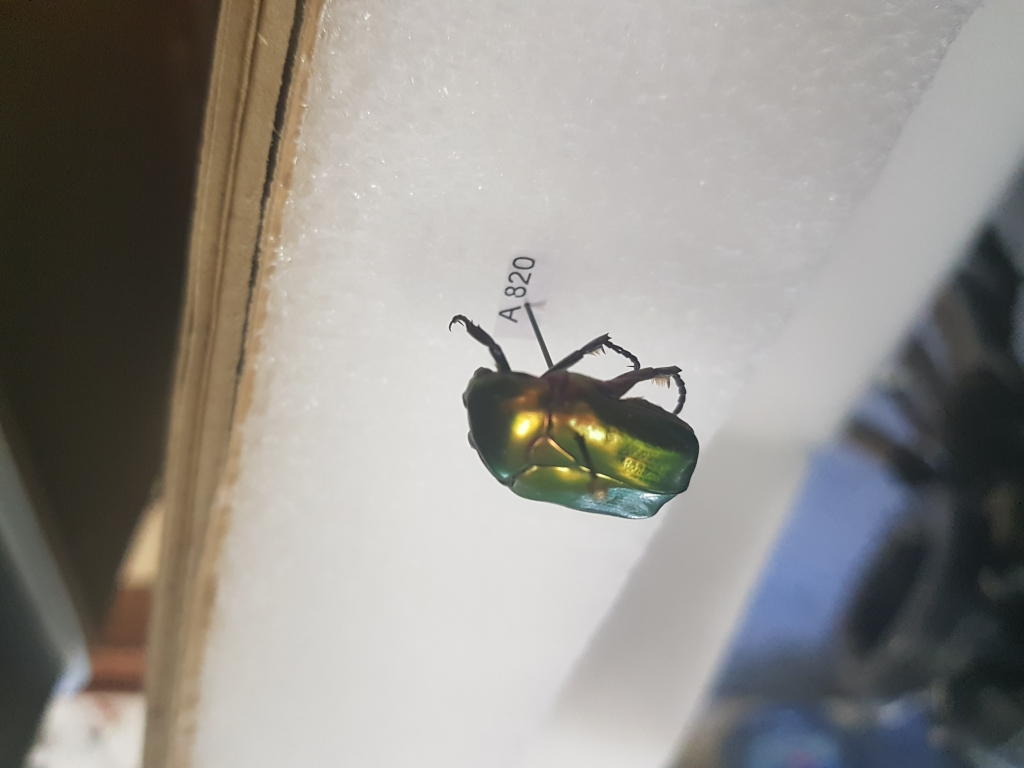Protaetia_cuprea_ignicollis: (438, 297, 733, 521)
